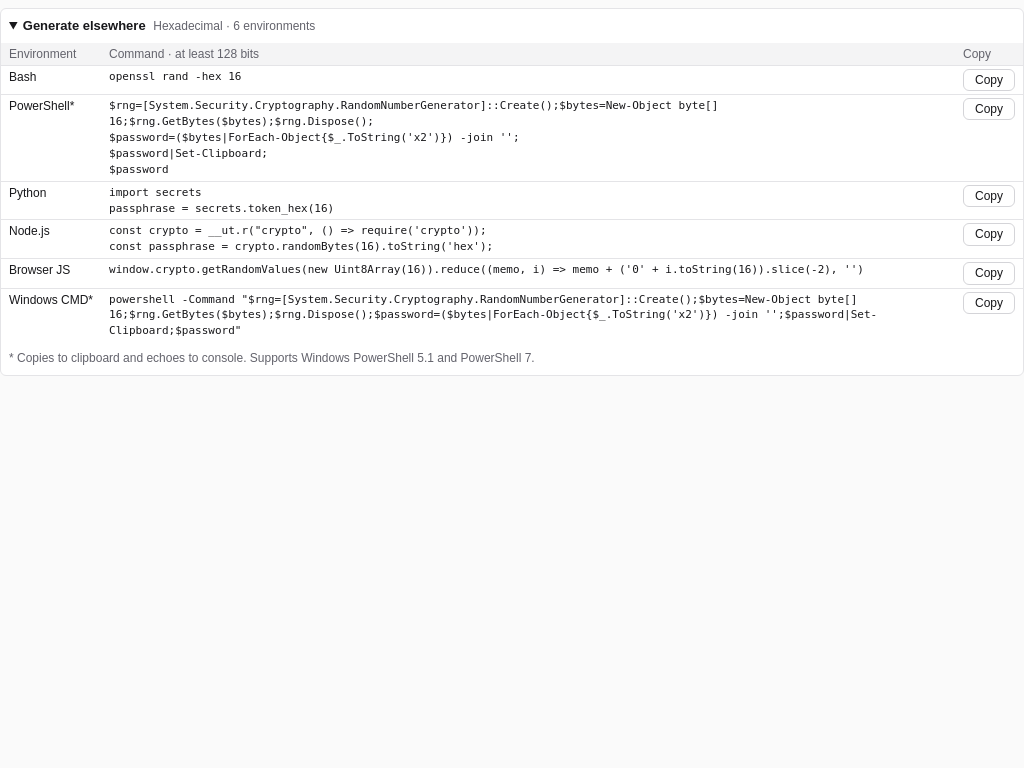
Test: reports command-copy failures visibly and clears old selection
Click the button "Copy" in the row of "Bash" at (989, 80), box [963,69,1015,91]
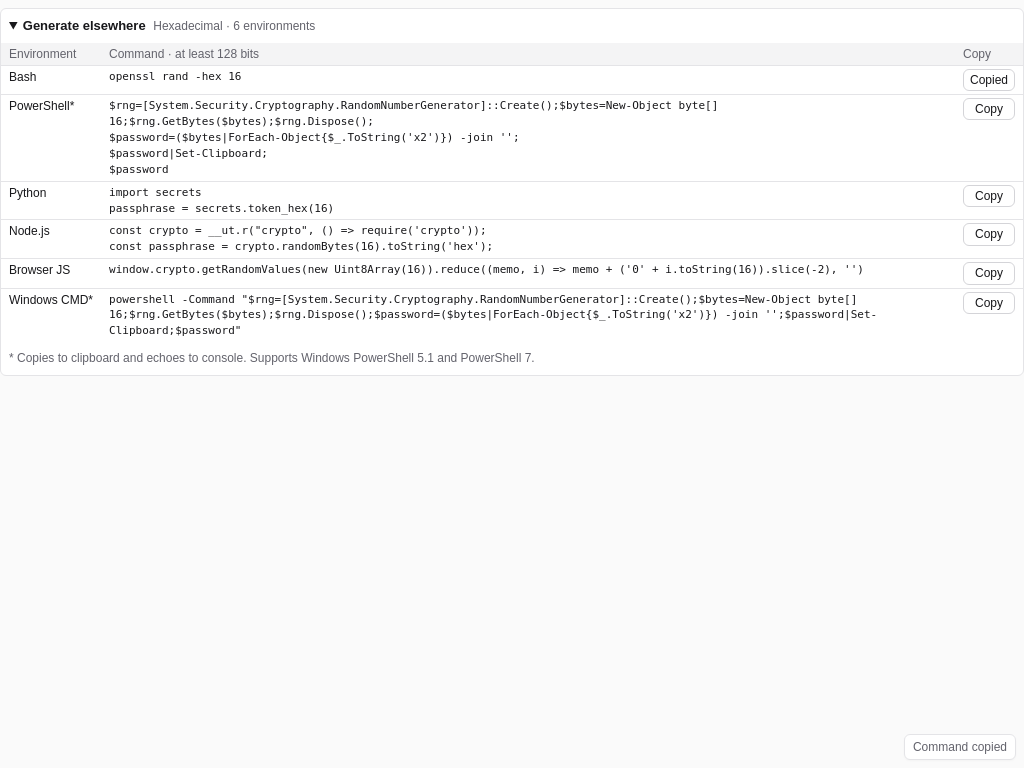
Click the button "Copied" at (989, 80), box [963,69,1015,91]
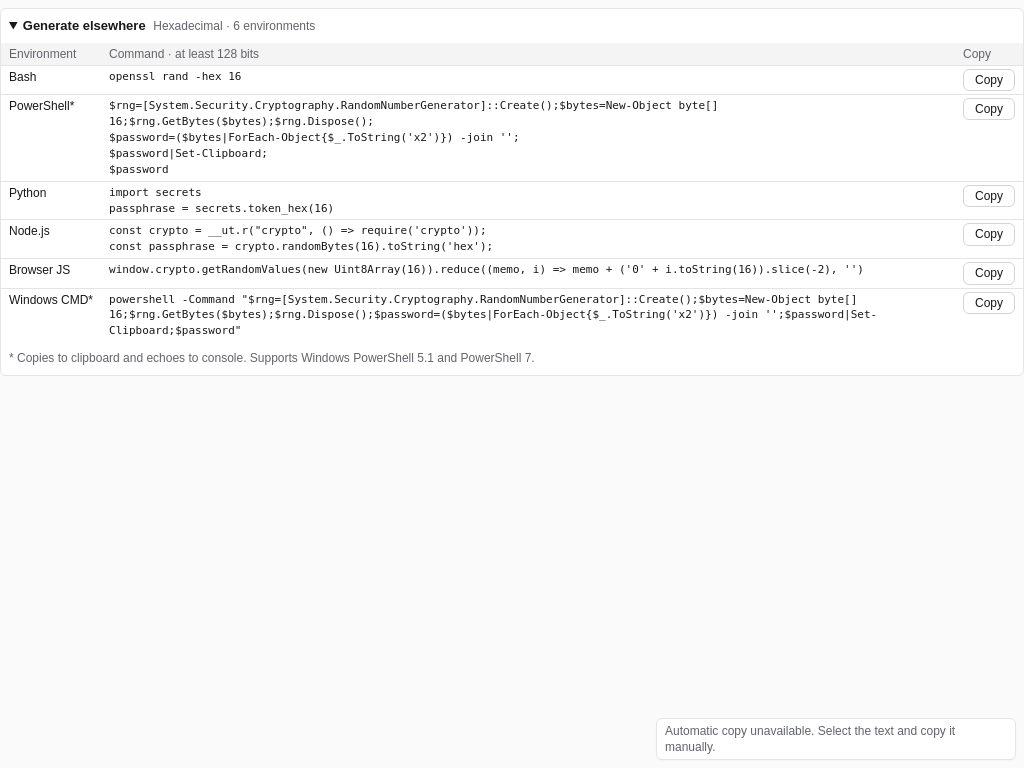
Expected: the message "Automatic copy unavailable. Select the text and copy it manually." is shown, [656,718,1016,760]
Expected: the button "Copy" in the row of "Bash" is shown, [963,69,1015,91]
